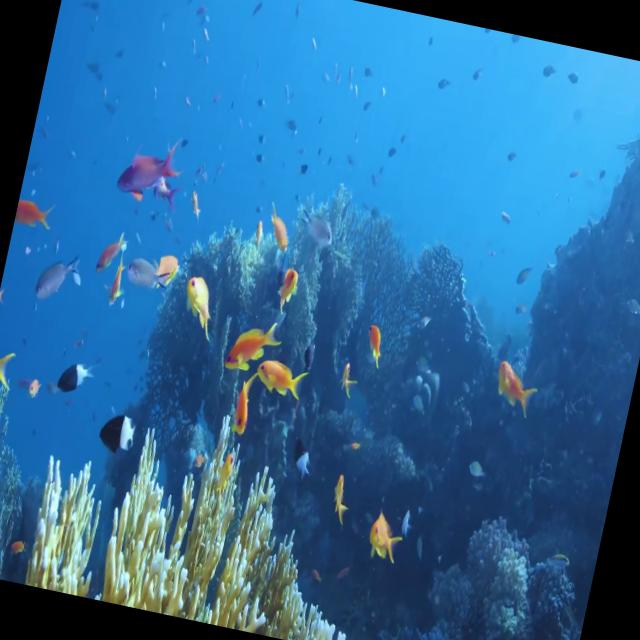fish: (474, 340, 550, 427), (109, 135, 190, 216), (18, 234, 86, 330), (215, 312, 287, 381), (172, 256, 230, 338), (88, 394, 146, 470), (356, 500, 412, 564), (46, 338, 94, 408), (250, 351, 312, 405), (11, 182, 64, 245), (115, 240, 167, 298), (220, 372, 262, 441), (318, 464, 356, 535), (264, 252, 306, 314), (144, 168, 186, 224), (149, 236, 186, 298), (260, 204, 298, 261), (286, 423, 322, 481), (354, 316, 390, 372), (331, 353, 362, 408), (0, 345, 19, 413)
